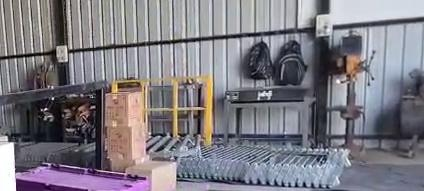box: (16, 164, 148, 190)
